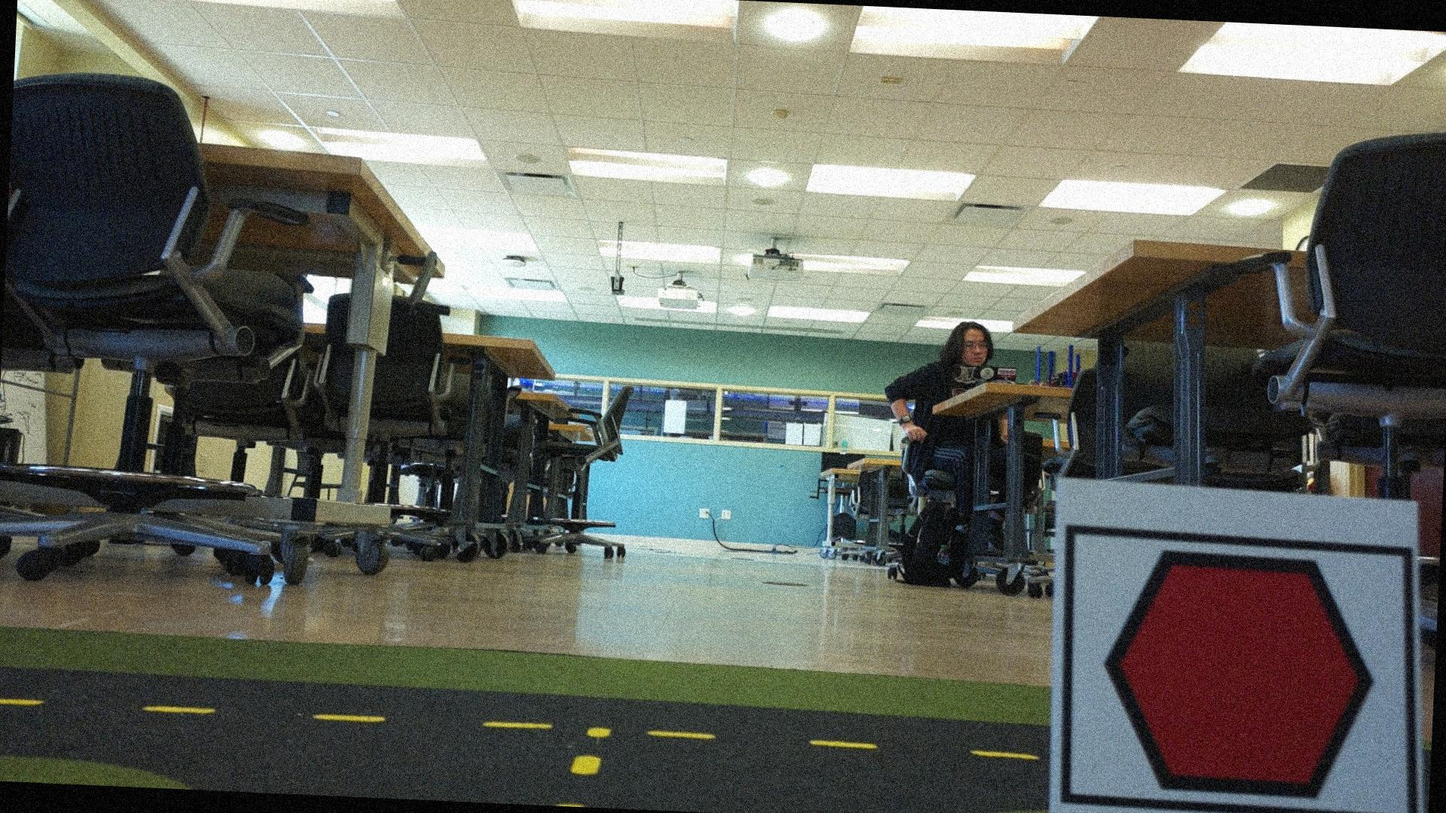stop: (1054, 533, 1408, 812)
yellowline: (0, 689, 1033, 759), (562, 724, 615, 781)
